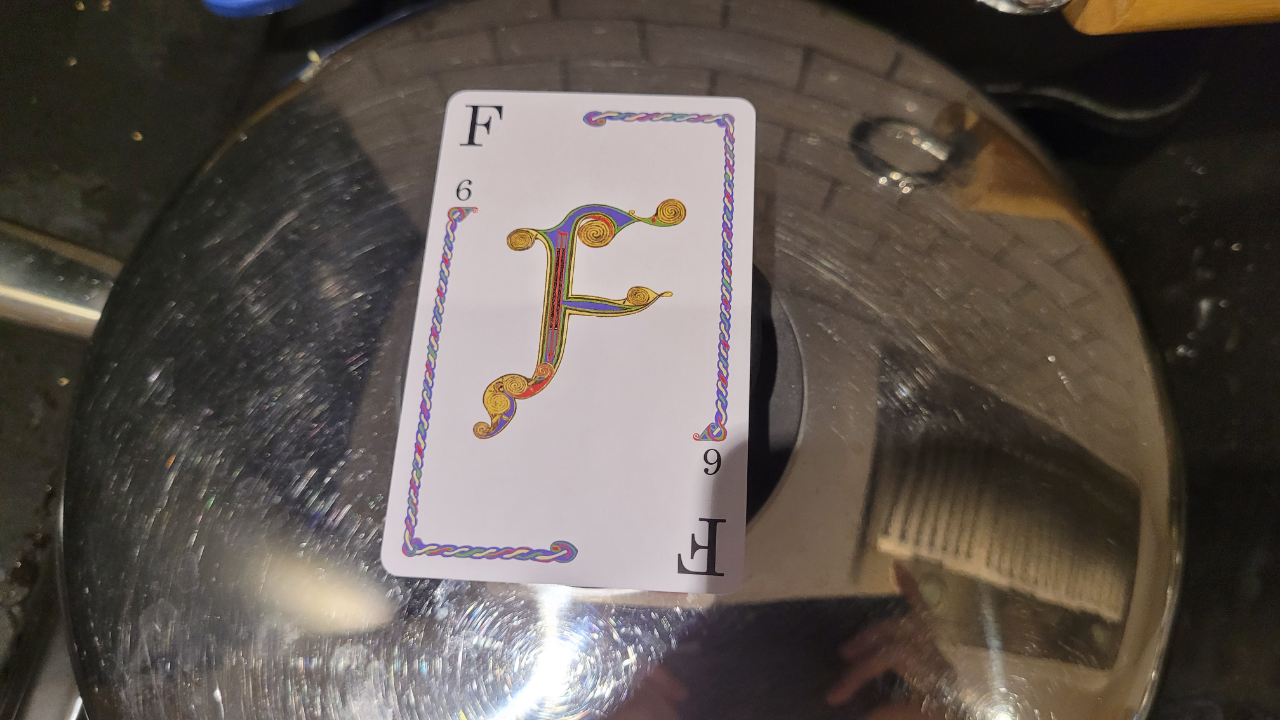quiddler_card: (369, 62, 808, 633)
